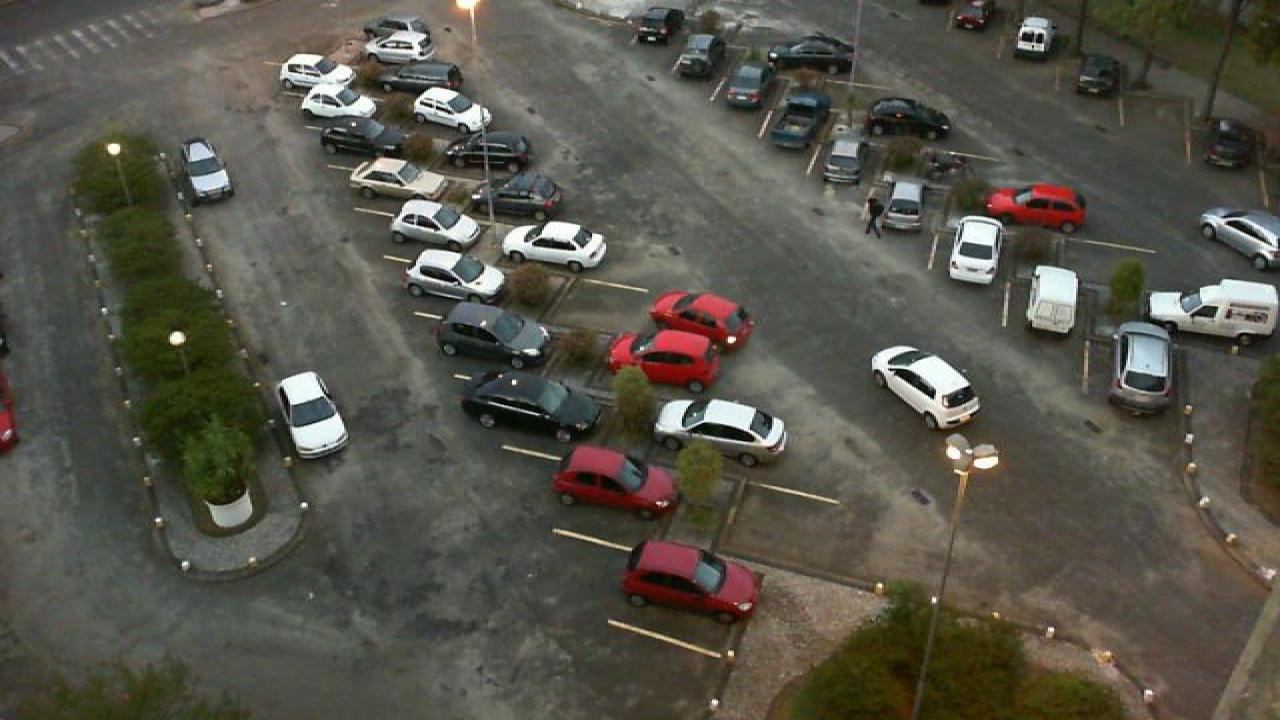Car: (620, 539, 764, 624), (458, 371, 606, 443), (550, 444, 680, 521), (868, 343, 982, 430), (654, 397, 790, 467), (434, 300, 554, 372), (1146, 278, 1280, 340), (604, 328, 722, 395), (274, 370, 352, 460), (648, 289, 758, 352), (1108, 322, 1178, 417), (400, 248, 506, 306), (496, 219, 610, 271), (1196, 206, 1280, 271), (388, 198, 482, 256), (986, 181, 1088, 234), (348, 156, 448, 202), (466, 175, 562, 220), (946, 215, 1004, 287), (438, 129, 534, 171), (1026, 263, 1082, 334), (410, 88, 494, 134), (866, 96, 952, 140), (180, 138, 236, 204), (318, 115, 408, 156), (300, 81, 380, 125), (764, 34, 854, 73), (768, 94, 832, 148), (276, 52, 358, 93), (716, 63, 778, 111), (382, 60, 464, 96), (1200, 117, 1256, 169), (668, 32, 724, 80), (362, 28, 434, 65), (878, 180, 928, 232), (816, 137, 868, 187), (1072, 52, 1126, 96), (630, 6, 686, 46), (1012, 15, 1060, 61), (362, 14, 432, 40), (948, 0, 1000, 30)
